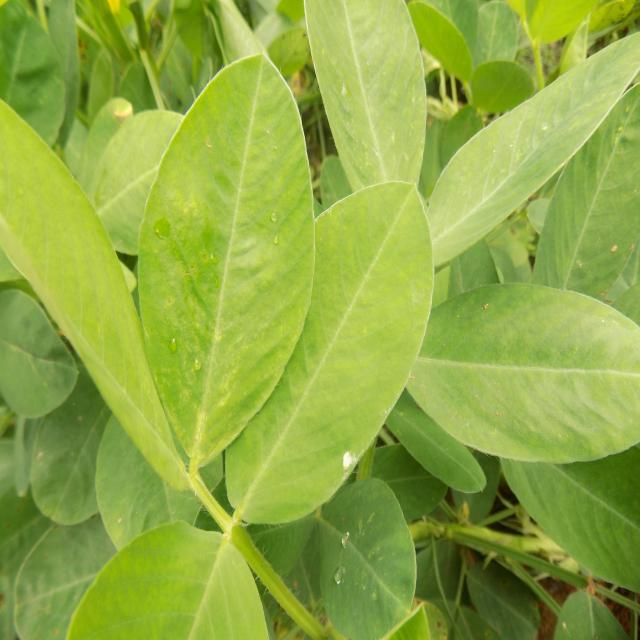Ground nut_healthy: (222, 177, 438, 525), (138, 53, 315, 469), (407, 276, 640, 466)
